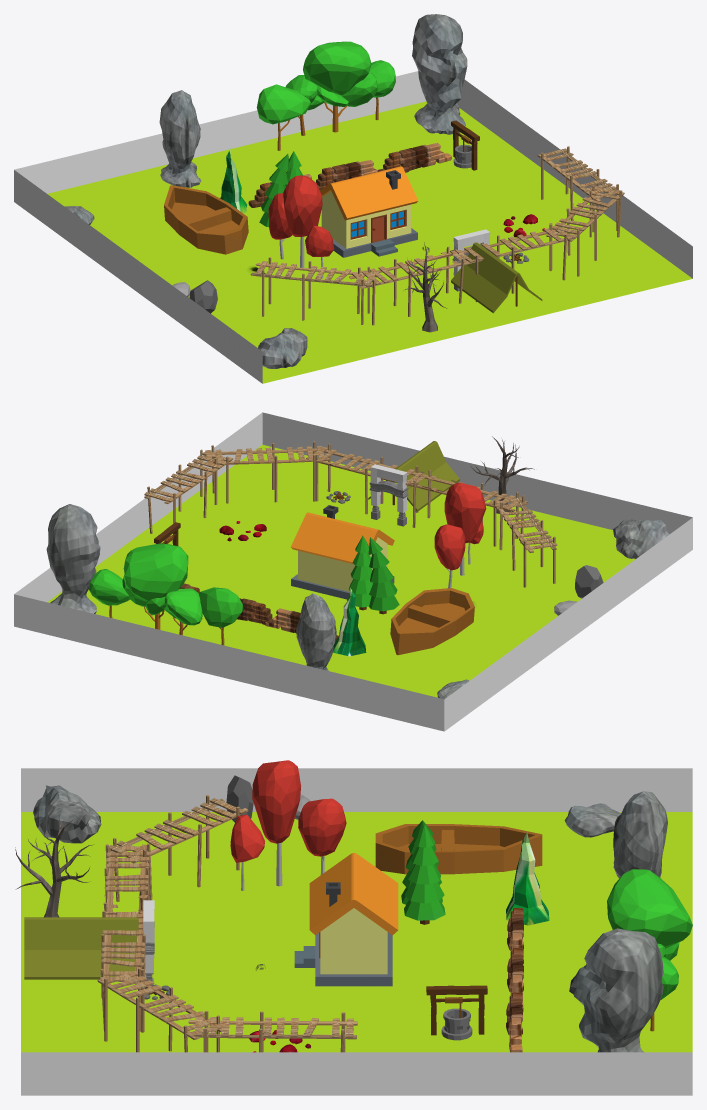
File: map_forest.glb
3 renders of one model, top to bottom at view 1: azimuth 30°, elevation 25°; view 2: azimuth 150°, elevation 25°; view 3: azimuth 270°, elevation 25°, orthographic. The views are drawn at different scales.
Parts seen in each view (by area): view 1: Plane.002, Well, rock1, jetty1.005, Base_Base_0, wall1.001, tree3, pointy1; view 2: Plane.002, Well, jetty1.005, rock1, Base_Base_0, wall1.001, pointy1, tree3; view 3: Plane.002, Well, rock1, jetty1.005, Base_Base_0, wall1.001, pointy1, tree3.
Part boxes in pixels (x1=…): Plane.002: x1=14, y1=71, x2=692, y2=383; Well: x1=164, y1=41, x2=542, y2=313; rock1: x1=64, y1=14, x2=467, y2=368; jetty1.005: x1=250, y1=146, x2=624, y2=325; Base_Base_0: x1=320, y1=166, x2=418, y2=257; wall1.001: x1=248, y1=143, x2=451, y2=207; tree3: x1=404, y1=242, x2=447, y2=332; pointy1: x1=220, y1=148, x2=247, y2=213; Plane.002: x1=14, y1=412, x2=692, y2=731; Well: x1=89, y1=441, x2=603, y2=655; jetty1.005: x1=144, y1=441, x2=557, y2=587; rock1: x1=46, y1=504, x2=669, y2=699; Base_Base_0: x1=291, y1=505, x2=394, y2=599; wall1.001: x1=180, y1=583, x2=338, y2=641; pointy1: x1=333, y1=588, x2=366, y2=656; tree3: x1=470, y1=436, x2=534, y2=513; Plane.002: x1=21, y1=768, x2=692, y2=1095; Well: x1=24, y1=760, x2=692, y2=1040; rock1: x1=33, y1=785, x2=667, y2=1052; jetty1.005: x1=97, y1=795, x2=357, y2=1052; Base_Base_0: x1=294, y1=853, x2=398, y2=986; wall1.001: x1=506, y1=908, x2=523, y2=1052; pointy1: x1=506, y1=832, x2=549, y2=925; tree3: x1=15, y1=814, x2=93, y2=917.
Size of the model in its own units: 39.88 by 9.9 by 40.32.
13 materials, 13 textured.
